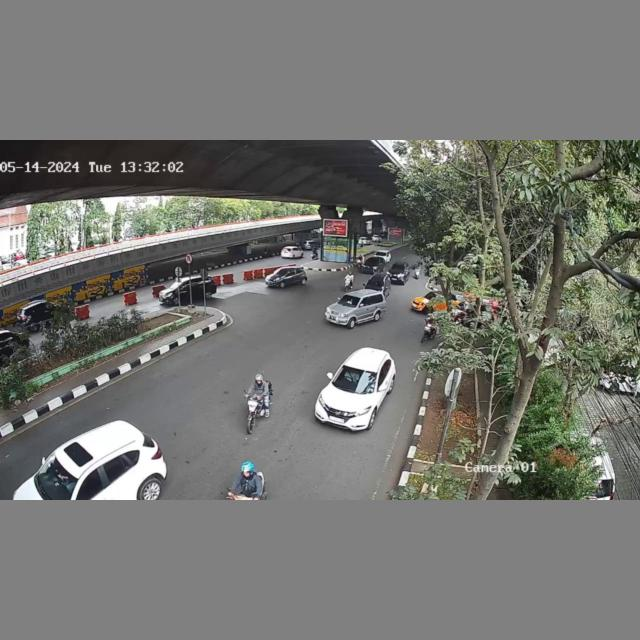windshield: (332, 366, 379, 391), (340, 296, 358, 307)
